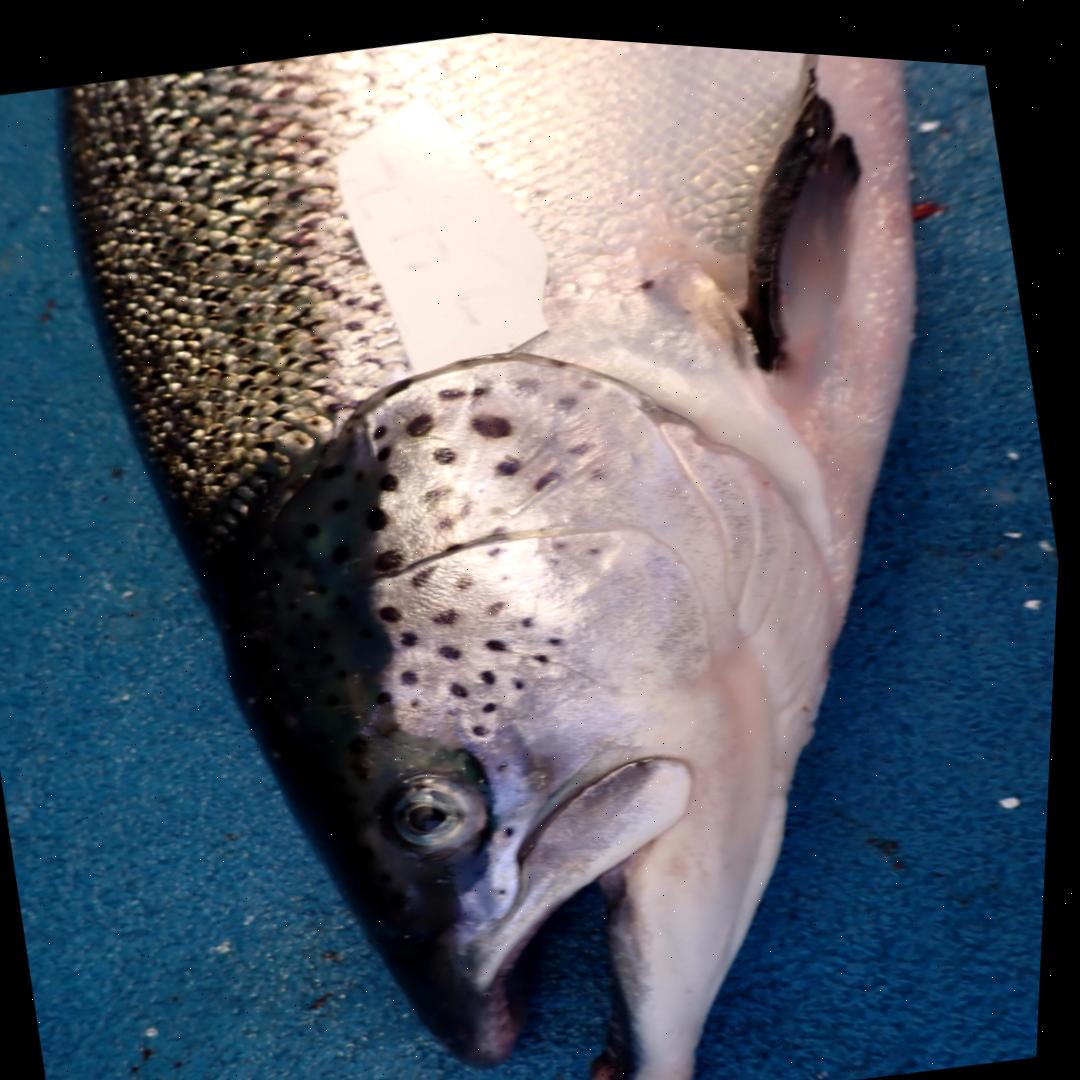spot: (475, 406, 515, 432), (508, 367, 544, 391), (554, 381, 583, 407), (408, 406, 438, 430), (379, 543, 409, 567), (538, 461, 566, 483), (428, 481, 458, 501), (369, 501, 394, 524), (388, 371, 418, 390), (499, 450, 526, 468), (438, 602, 464, 619), (480, 661, 504, 679), (436, 440, 460, 457), (416, 563, 438, 581), (441, 380, 468, 394), (581, 369, 610, 382), (384, 599, 406, 615), (444, 638, 467, 653), (404, 663, 425, 679), (473, 377, 494, 393), (489, 631, 514, 644), (384, 468, 403, 485), (455, 674, 474, 691), (442, 509, 461, 525), (406, 625, 424, 641), (574, 434, 596, 446), (491, 594, 511, 607), (380, 438, 395, 455), (377, 418, 391, 433), (524, 608, 540, 621), (382, 686, 398, 699), (478, 717, 495, 729), (465, 495, 477, 512), (461, 569, 478, 580), (519, 670, 532, 683), (539, 646, 556, 655), (493, 539, 507, 549), (489, 695, 503, 705), (554, 629, 569, 638), (556, 533, 571, 541), (592, 539, 605, 546)
